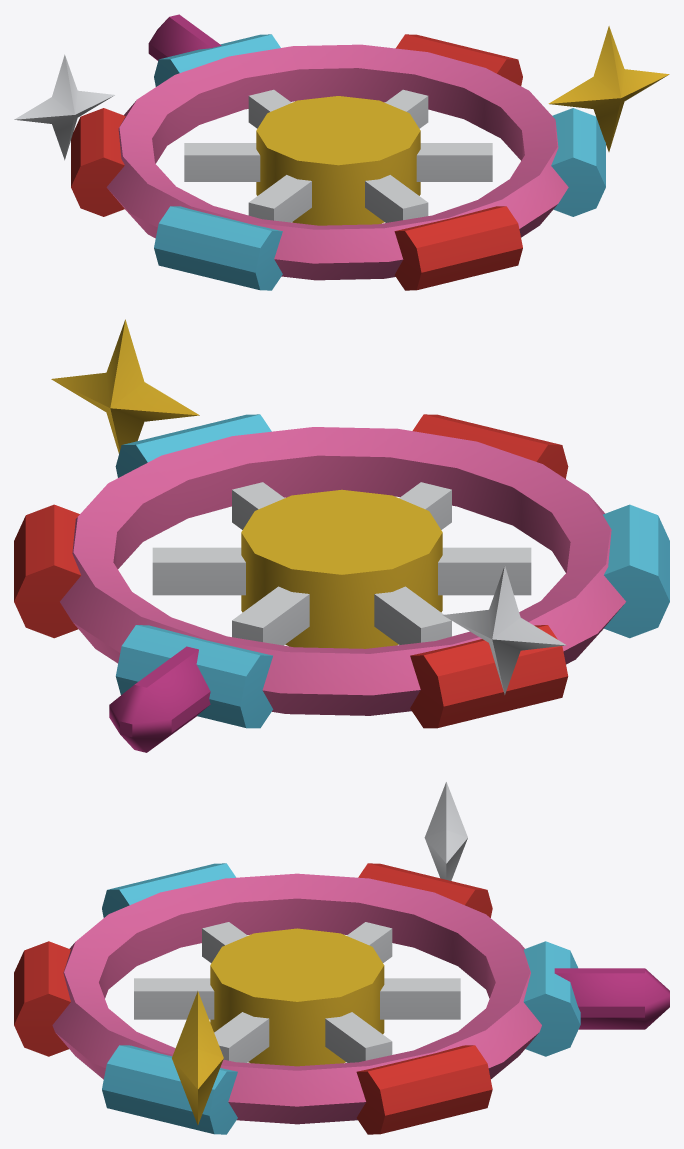
File: w_g_wheel.glb
3 views of the same model, one above another, from view 1: azimuth 30°, elevation 25°; view 2: azimuth 150°, elevation 25°; view 3: azimuth 270°, elevation 25° (orthographic). The views are drawn at different scales.
Visible parts, largest first — view 1: body; view 2: body; view 3: body.
Boxes of the visible parts, left/top/right/bottom form: body: left=14, top=14, right=669, bottom=290; body: left=14, top=319, right=669, bottom=752; body: left=14, top=782, right=669, bottom=1134.
Size of the model in its own units: 0.265 by 0.07 by 0.264.
